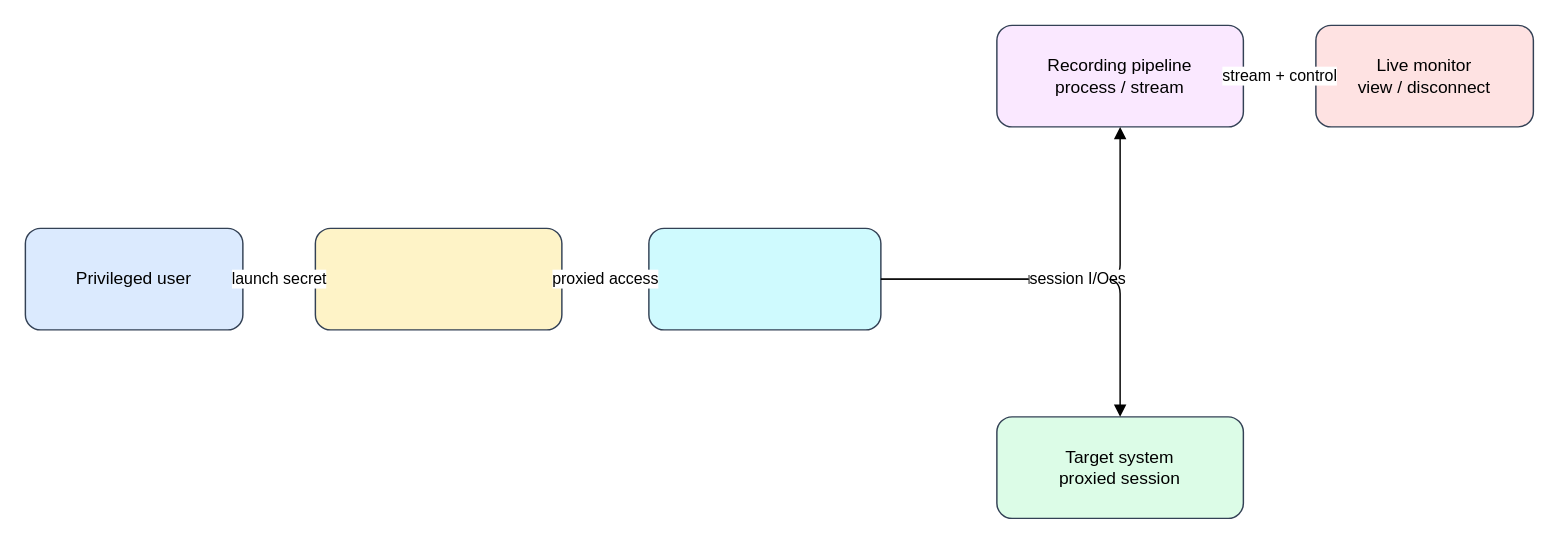
Some shapes in this 1559 by 544 pixel diagram are drawn without their labels. Here are the shapes that lost their labels. From the top down, the centre of each, then its label:
(438,278): Secret policy Session Recording
(764,278): FortiPAM proxy
